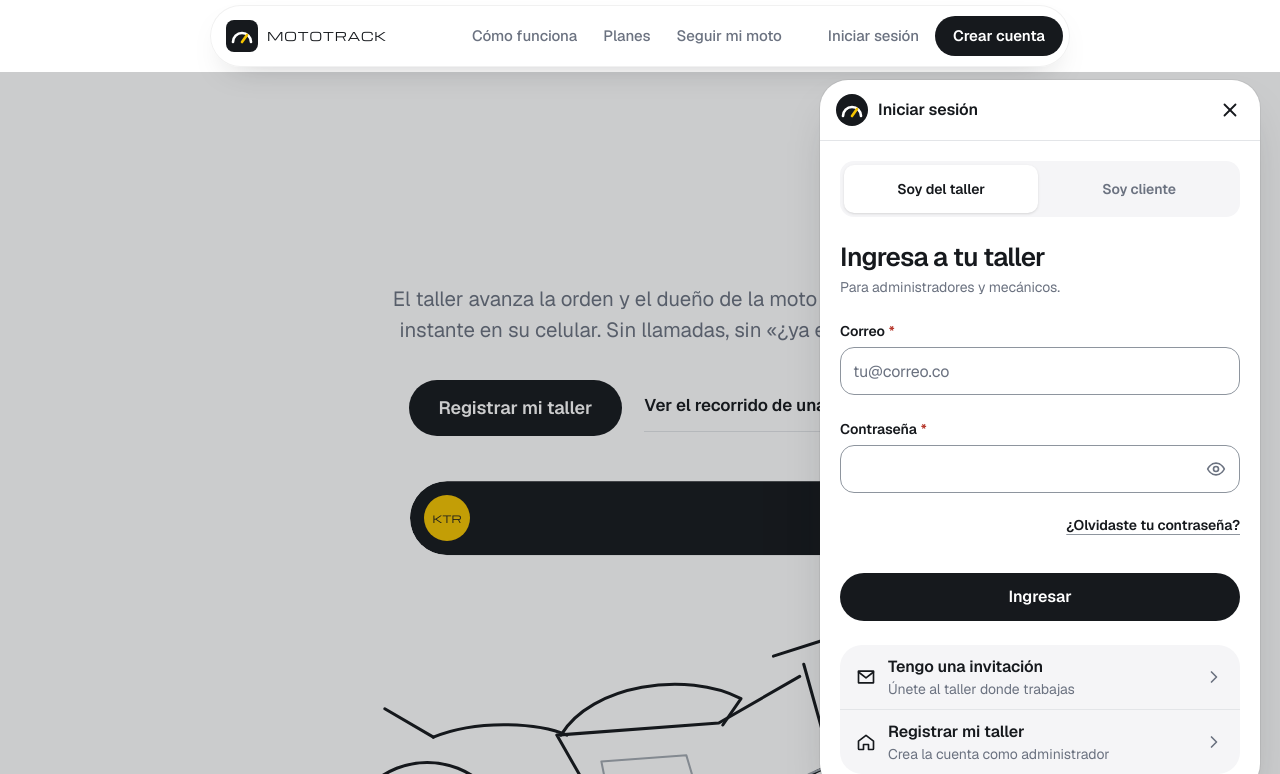
Test: HU-19 · Inicio de sesión › valida antes de enviar
Click the button "Ingresar". click: (1040, 597)
box: x1=840 y1=573 x2=1240 y2=621
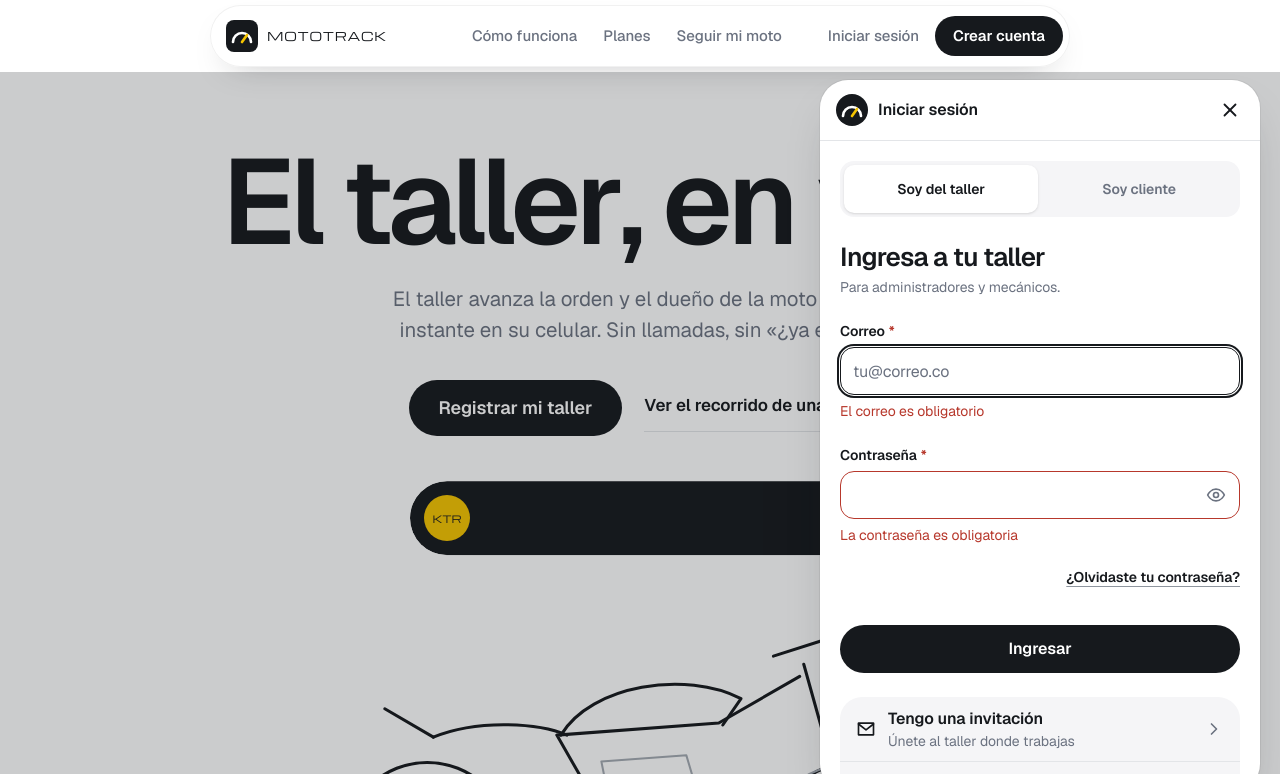
Result: the text "El correo es obligatorio" is shown at x1=840 y1=402 x2=984 y2=420
Result: the text "La contraseña es obligatoria" is shown at x1=840 y1=526 x2=1018 y2=544
